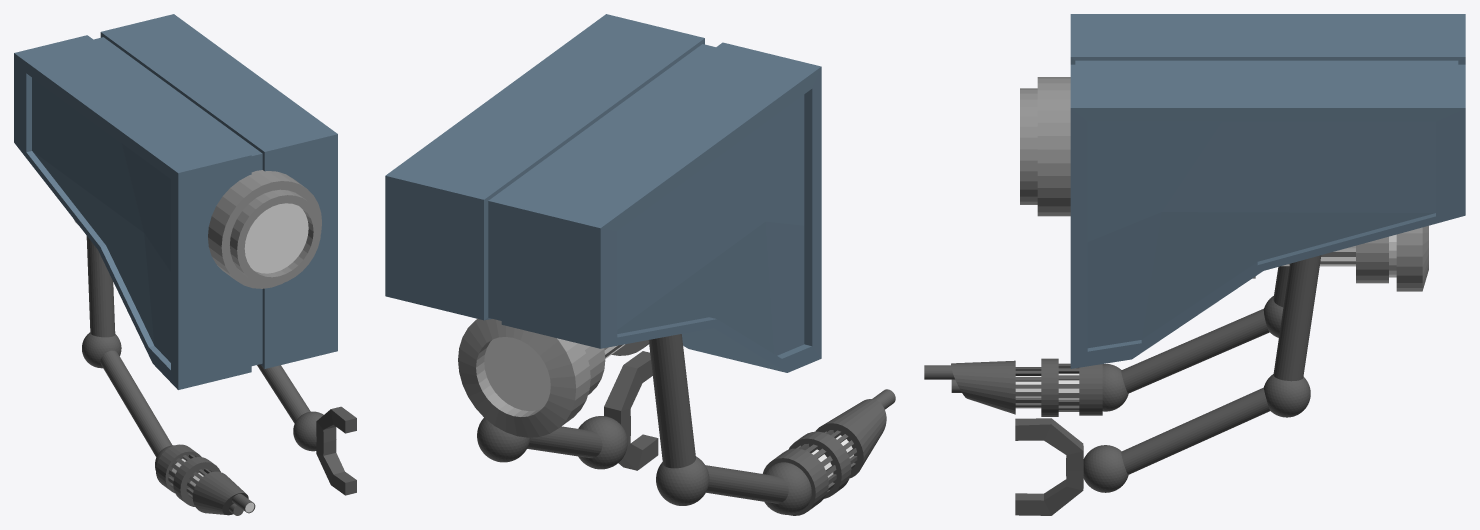
File: 1.1 Virus Game Placeholder Character Model.fbx
The picture shows the model from 3 angles, left to right: view 1: azimuth 30°, elevation 25°; view 2: azimuth 150°, elevation 25°; view 3: azimuth 270°, elevation 25°; orthographic projection. The views are drawn at different scales.
Visible parts, largest first — view 1: Cube.002; view 2: Cube.002; view 3: Cube.002.
Part boxes in pixels (<box>): Cube.002: <box>14,14,356,515</box>; Cube.002: <box>385,14,895,515</box>; Cube.002: <box>924,14,1465,515</box>.
Size of the model in its own units: 304 by 563 by 672.
